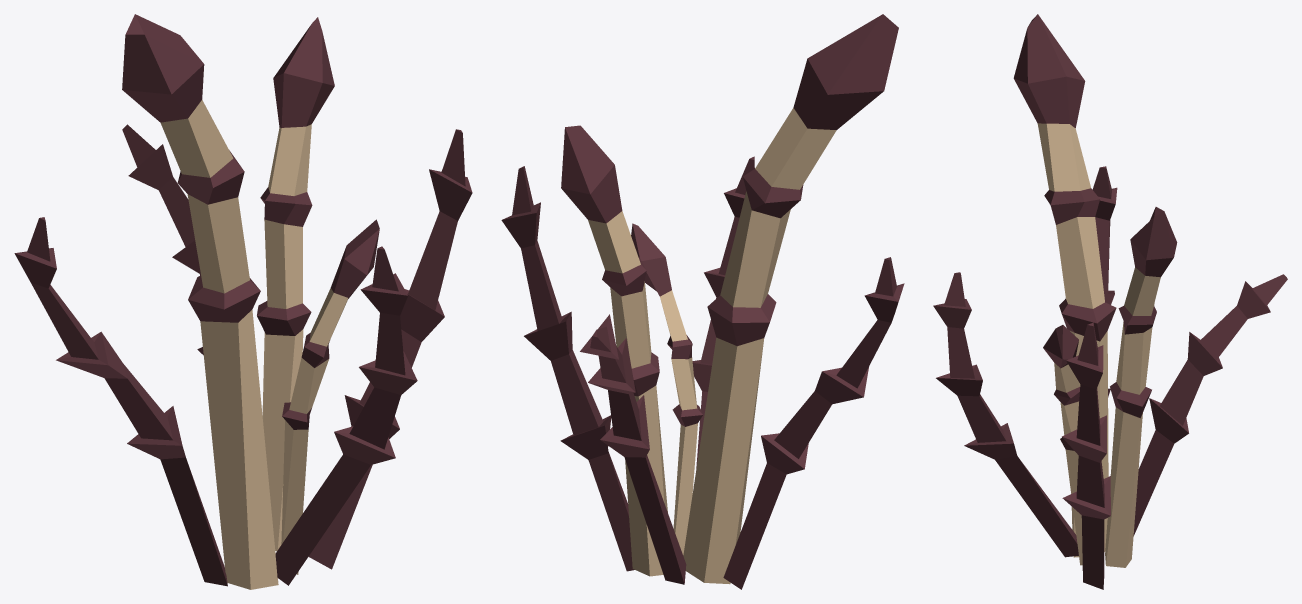
Rendered from SM_Horsetail_Prehistoric.fbx.
The picture shows the model from 3 angles, left to right: view 1: azimuth 30°, elevation 25°; view 2: azimuth 150°, elevation 25°; view 3: azimuth 270°, elevation 25°; orthographic projection. The views are drawn at different scales.
Visible parts, largest first — view 1: SM_Horsetail_Prehistoric; view 2: SM_Horsetail_Prehistoric; view 3: SM_Horsetail_Prehistoric.
Part boxes in pixels (x1,y1,x2,y2): SM_Horsetail_Prehistoric: [14, 14, 472, 589]; SM_Horsetail_Prehistoric: [501, 14, 904, 589]; SM_Horsetail_Prehistoric: [933, 14, 1287, 589].
Bounding box in the file's own units: 1.04 × 1.43 × 0.9424.
